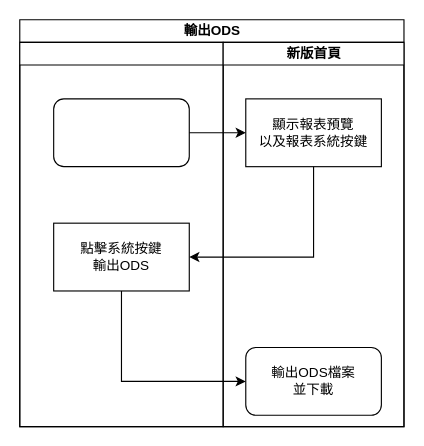
Image size: 424x446. Some labels were removed from this diagram. The shapes that lost their labels are listed below. From the top down, each one's box as (x1, y1, x2, y2) in pixels, then its label:
(53, 98, 189, 167): 透過表單執行 開啟報表
(19, 41, 223, 427): 使用者
